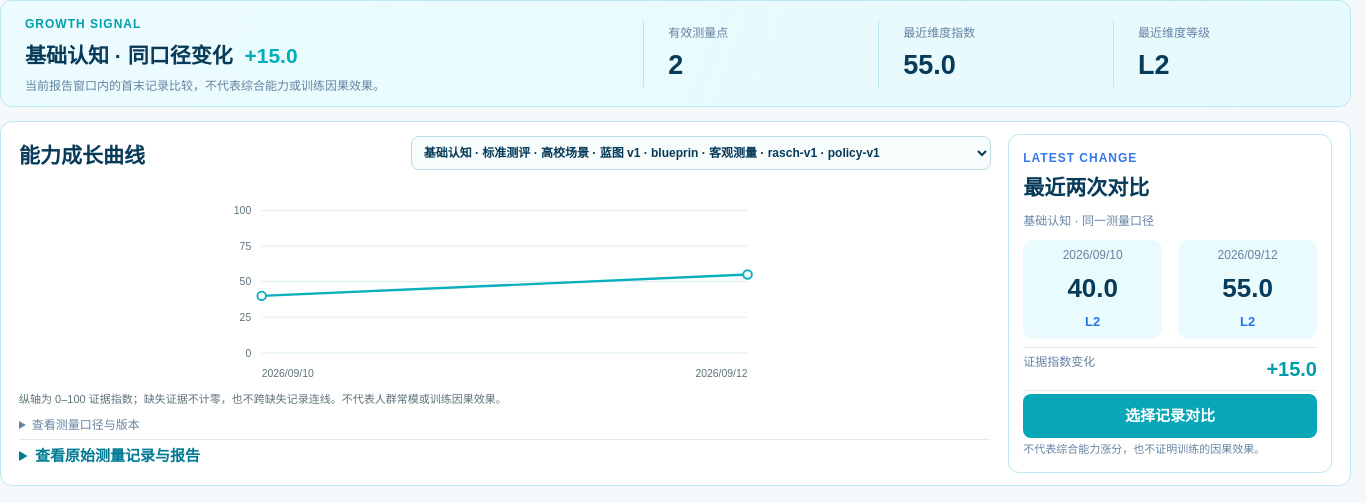
Test case: comparable growth records › plots only a selected comparable group and links original reports with version context
Step 1. Select "基础认知 · 标准测评 · 高校场景 · 蓝图 v2 · blueprin · 客观测量 · rasch-v1 · policy-v1" in the dropdown with test id "trend-group" → point(701, 153), box [411,136,991,170]
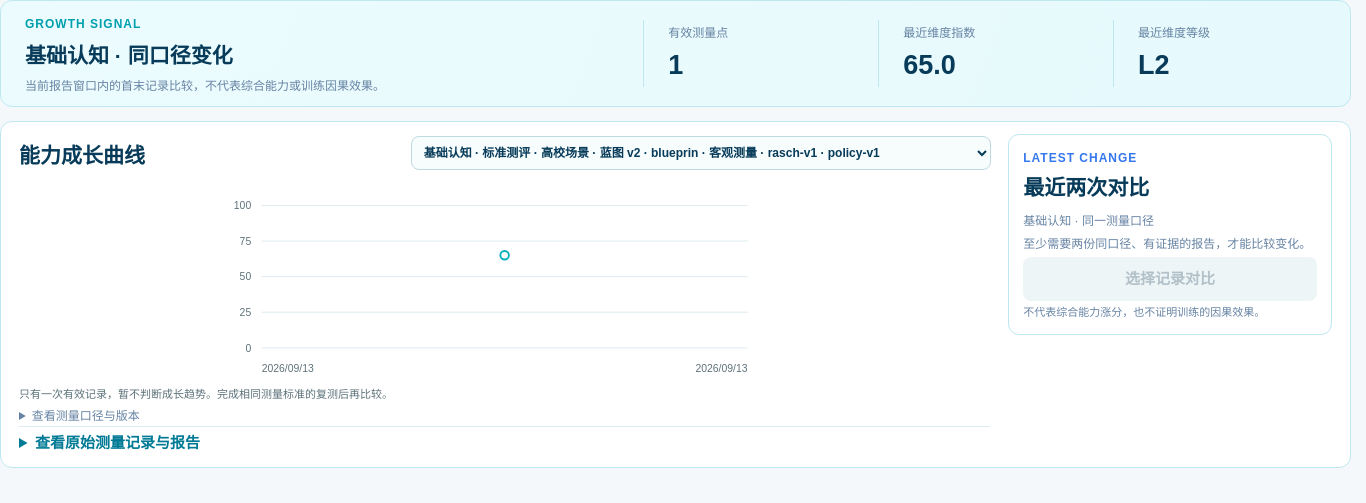
Check: the text "只有一次有效记录" is shown, box [19,388,393,400]
